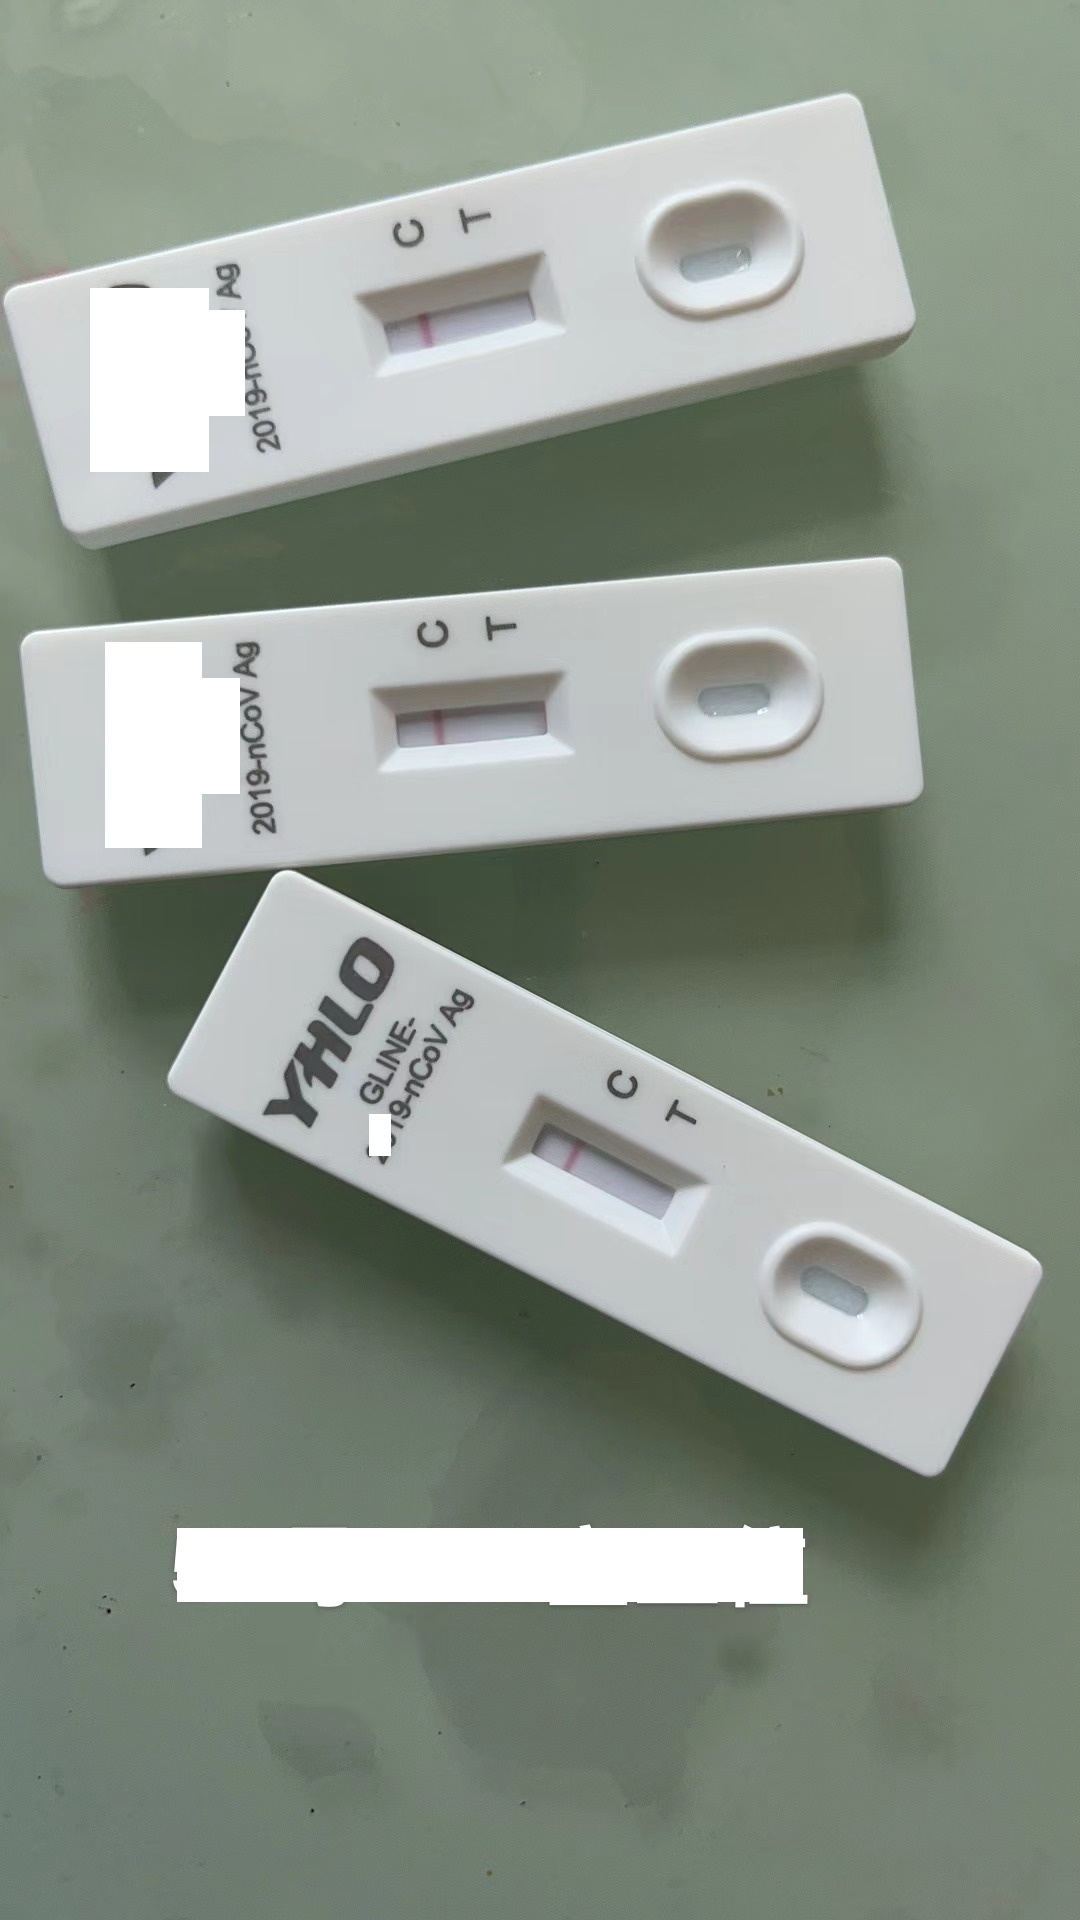negative: (506, 1106, 696, 1245), (357, 252, 560, 378), (369, 670, 572, 769)
